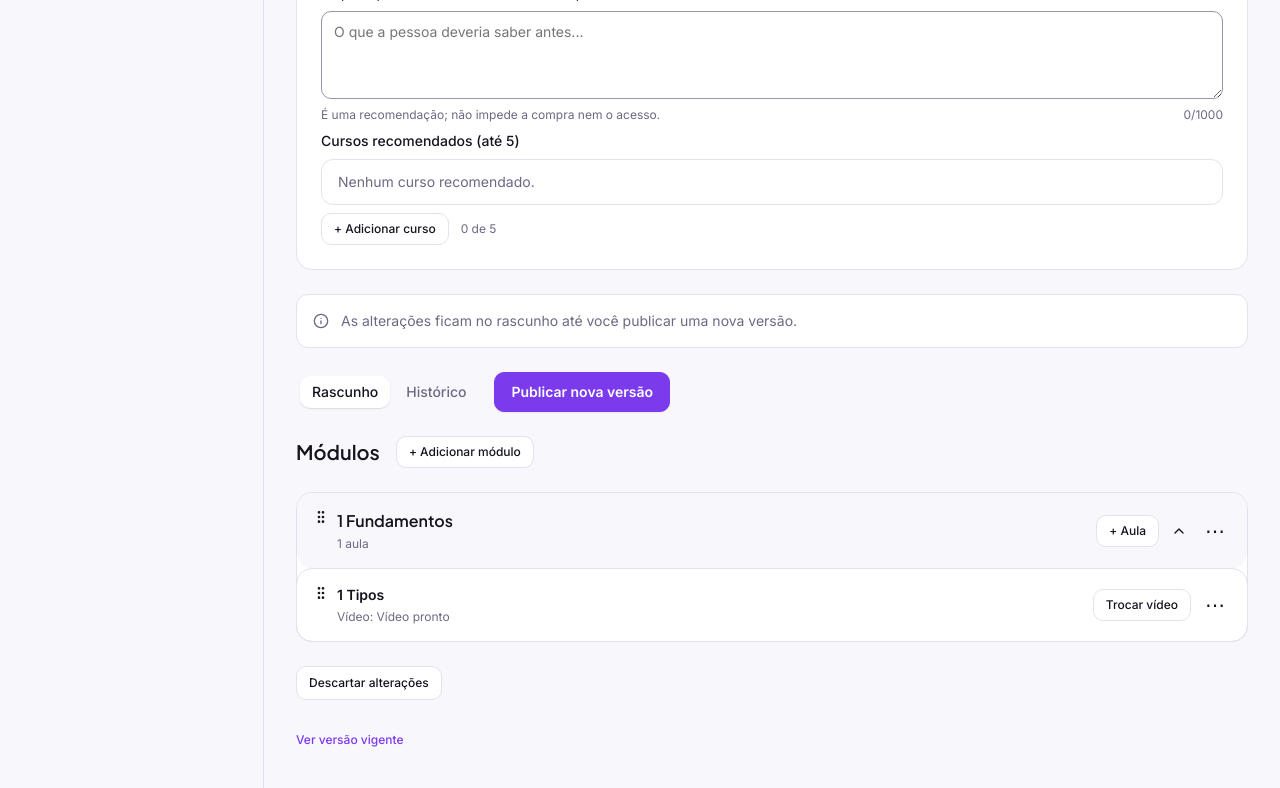
Test case: authoring versions › stale republication reloads course and requires a new confirmation with the updated revision
(page scrolled)
Click the button "Publicar nova versão" at (582, 392), box [494,372,670,412]
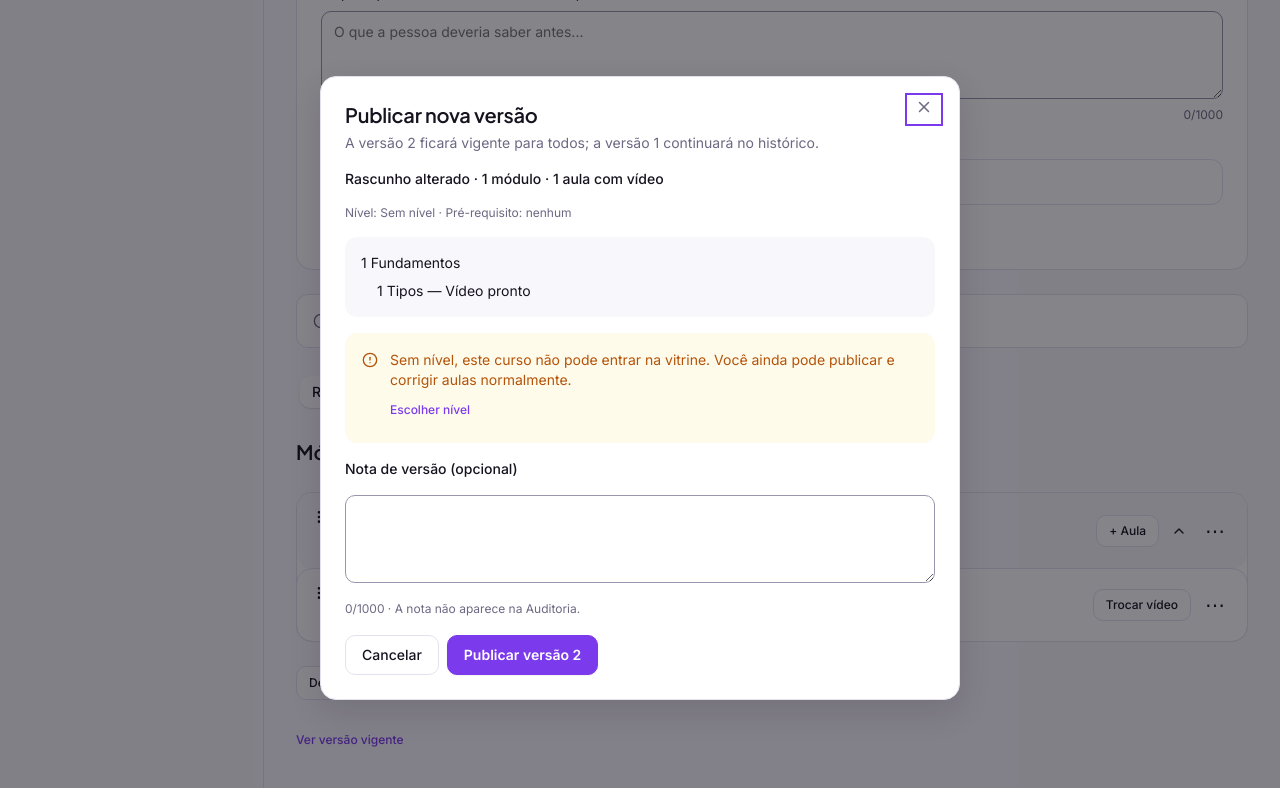
Click the button "Publicar versão 2" at (522, 655), box [447,635,598,675]
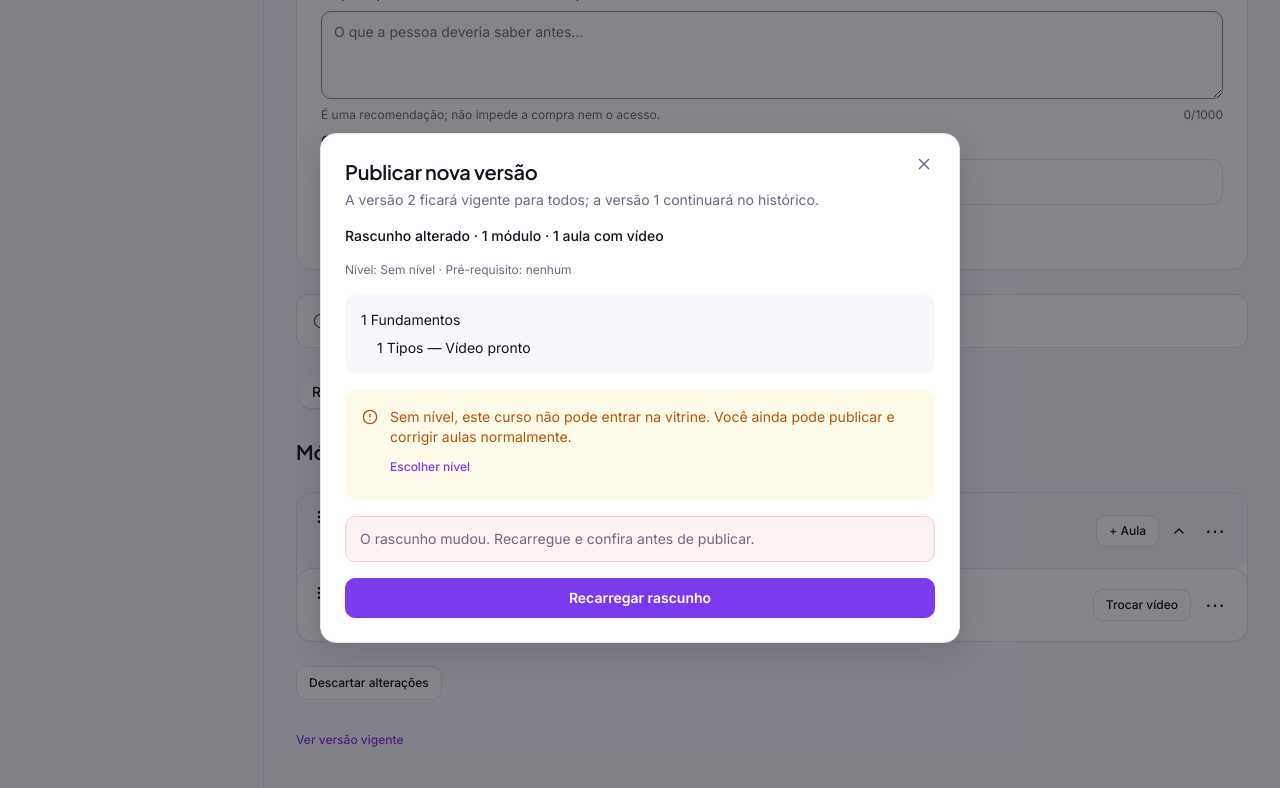
Check: the text "O rascunho mudou. Recarregue e confira antes de publicar." is shown, box [345,516,935,562]
Click the button "Recarregar rascunho" at (640, 598), box [345,578,935,618]
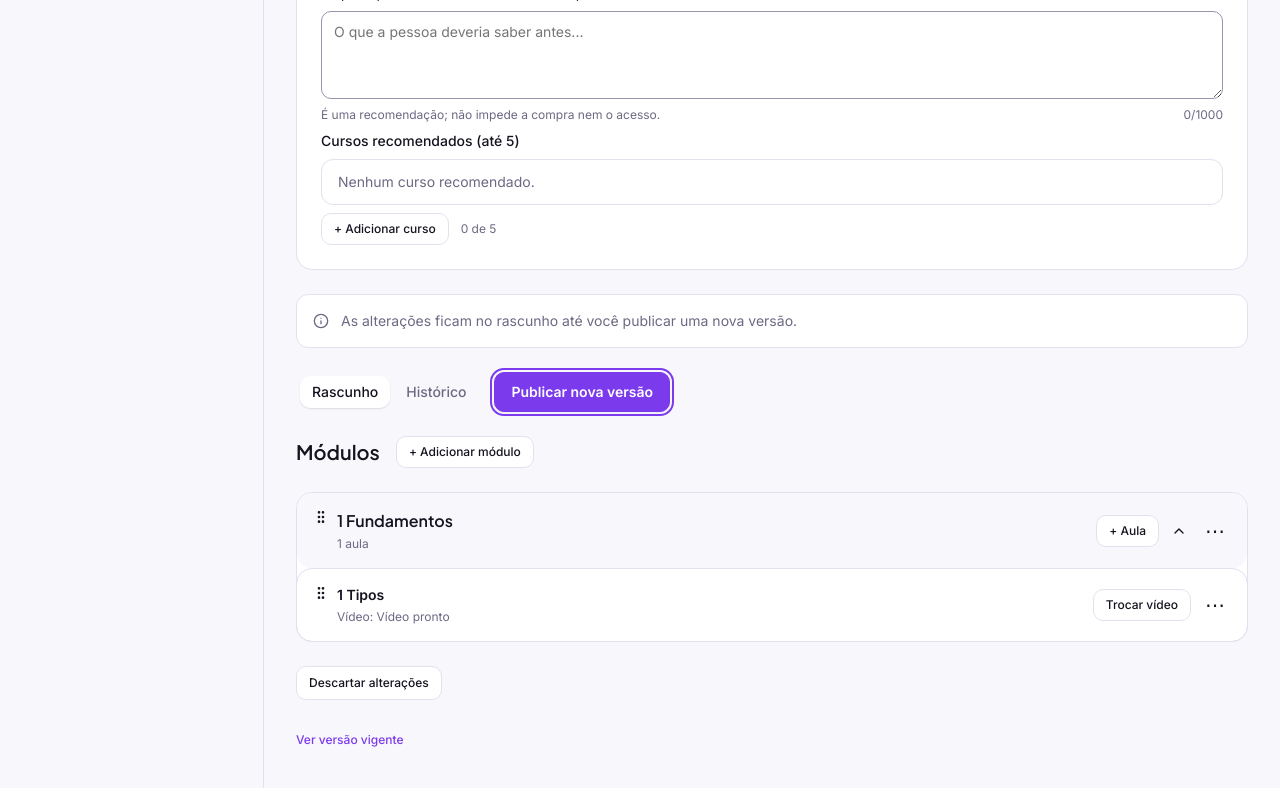
Click the button "Publicar nova versão" at (582, 392), box [494,372,670,412]
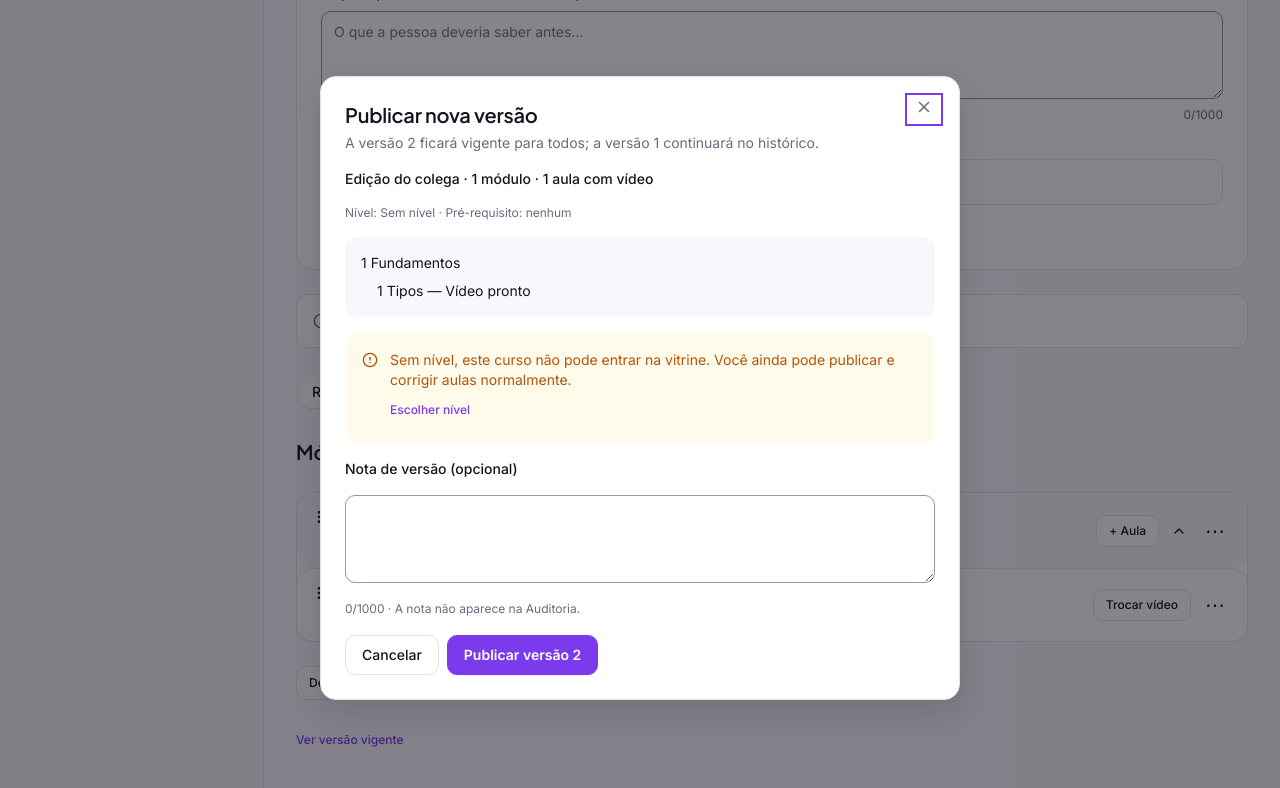
Check: the dialog shows "Publicar nova versão", box [345,102,538,127]
Click the button "Publicar versão 2" at (522, 655), box [447,635,598,675]
(page scrolled)
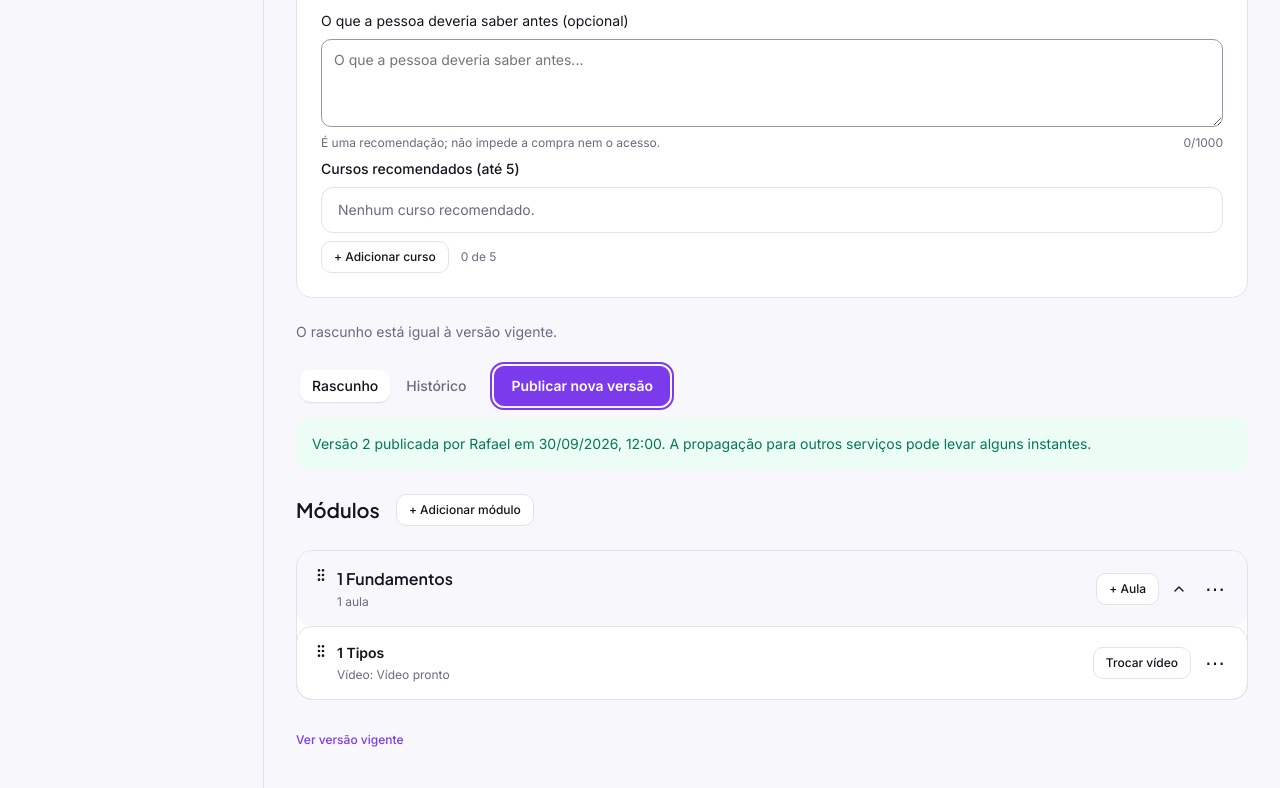
Check: the text "Versão 2 publicada por Rafael" is shown, box [296,418,1248,470]
